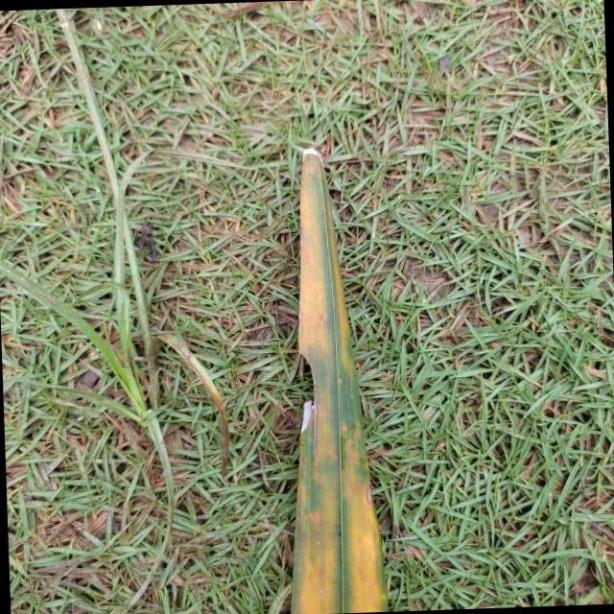Megnesium: (289, 132, 389, 614)
